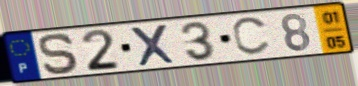2: (79, 28, 122, 72)
3: (180, 19, 215, 63)
8: (279, 12, 313, 52)
C: (230, 15, 272, 58)
S: (37, 31, 82, 76)
X: (127, 22, 179, 68)
